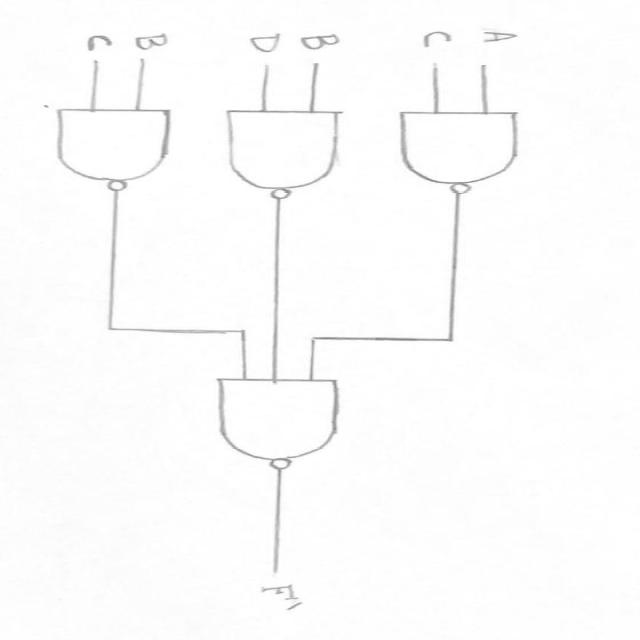NAND: (187, 364, 383, 479), (384, 103, 563, 206), (41, 102, 200, 200), (219, 101, 354, 204)
